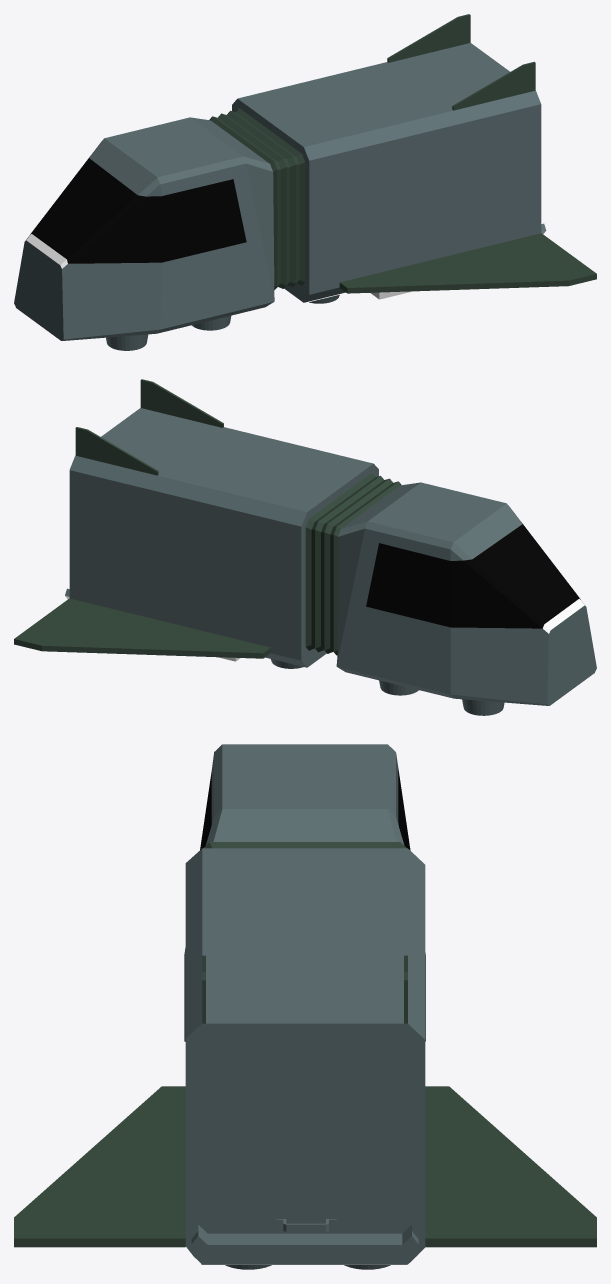
Rendered from test_ship2.gltf.
3 views of the same model, one above another, from view 1: azimuth 30°, elevation 25°; view 2: azimuth 150°, elevation 25°; view 3: azimuth 270°, elevation 25° (orthographic). The views are drawn at different scales.
Parts seen in each view (by area): view 1: Ship, Cylinder.002; view 2: Ship, Cylinder.006; view 3: Ship.
Part boxes in pixels (x1,y1,x2,y2): Ship: (14, 14, 596, 340); Cylinder.002: (106, 334, 148, 350); Ship: (14, 379, 596, 705); Cylinder.006: (462, 699, 504, 715); Ship: (14, 744, 596, 1264).
Bounding box in the file's own units: 14 × 5.98 × 9.7.
